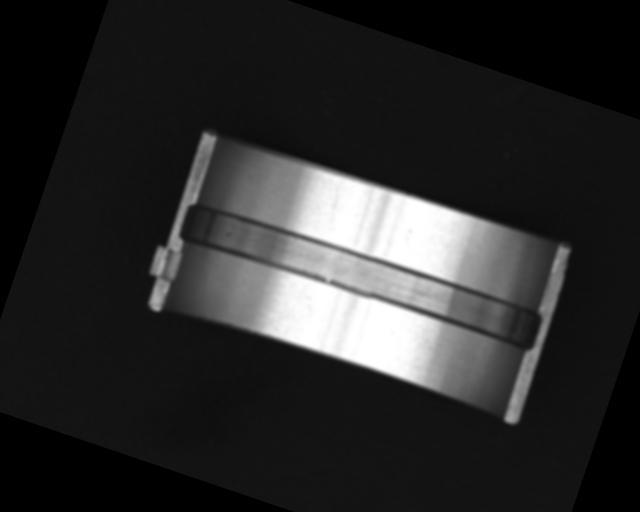gap: (178, 193, 547, 358)
nick: (325, 186, 345, 223)
